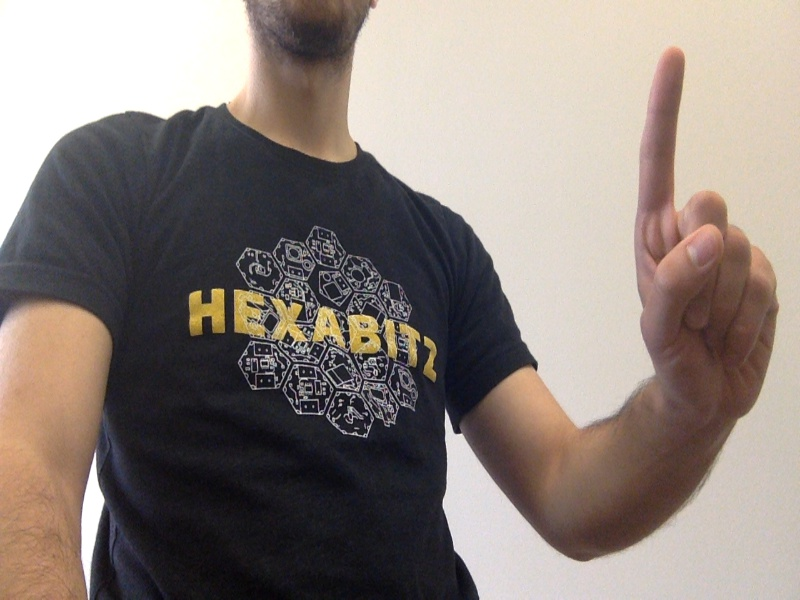1-hand: (632, 46, 782, 417)
